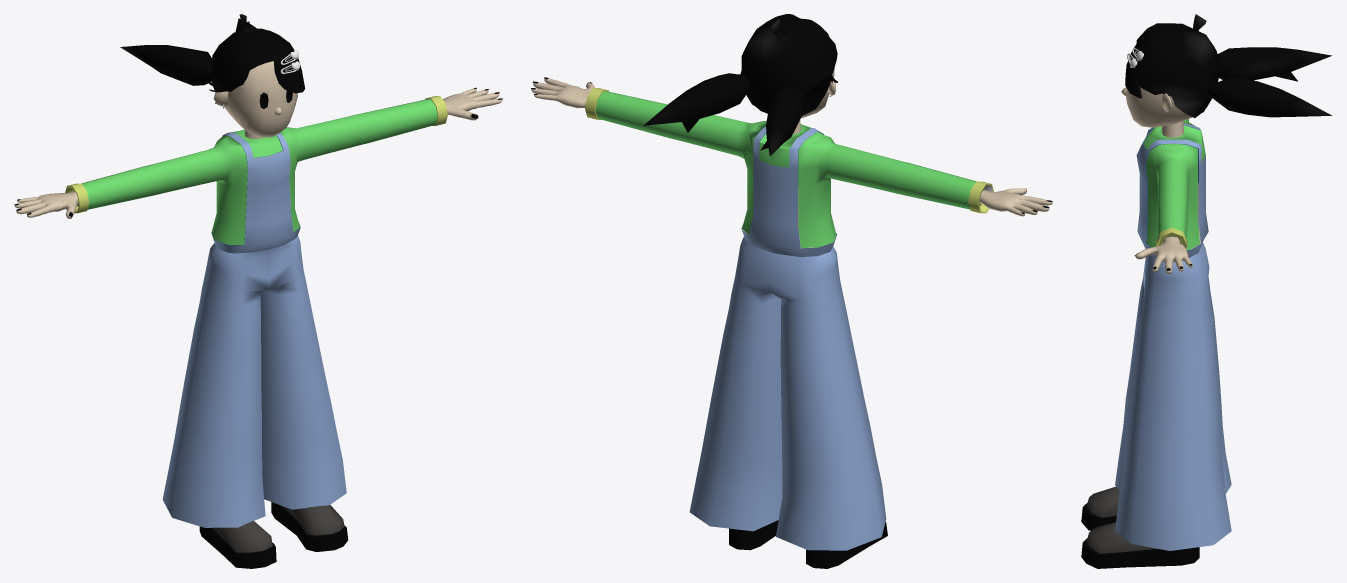
The model's file is ProtagonistHairClip.fbx.
3 renders of one model, left to right at view 1: azimuth 30°, elevation 25°; view 2: azimuth 150°, elevation 25°; view 3: azimuth 270°, elevation 25°, orthographic. The views are drawn at different scales.
Parts seen in each view (by area): view 1: Protagonista; view 2: Protagonista; view 3: Protagonista.
Boxes of the visible parts, x1=… form: Protagonista: x1=14, y1=14, x2=502, y2=568; Protagonista: x1=531, y1=14, x2=1052, y2=568; Protagonista: x1=1081, y1=14, x2=1332, y2=568.
Size of the model in its own units: 155 by 155 by 67.16.
